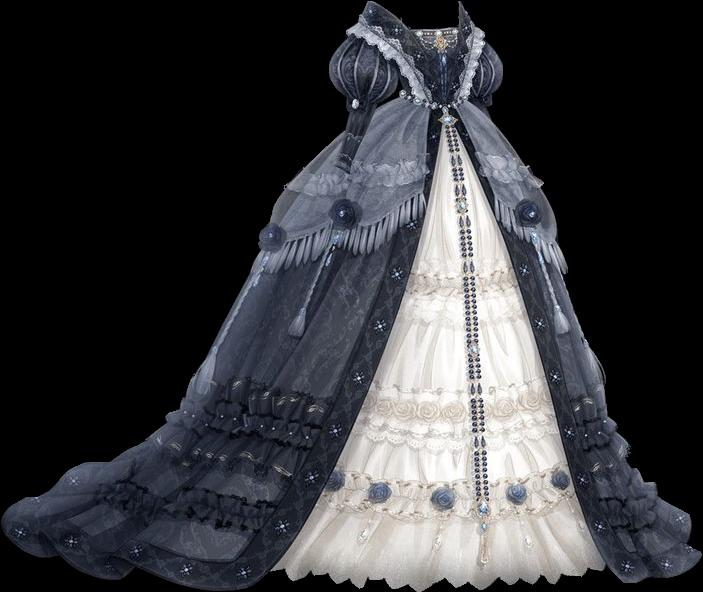Bodice: (353, 1, 485, 110)
Hemline: (263, 110, 448, 572), (450, 109, 612, 571), (1, 520, 702, 591), (256, 106, 434, 246), (456, 109, 558, 243)
Neckline: (368, 0, 465, 36), (410, 30, 445, 108), (444, 23, 466, 105)
Skirt: (2, 90, 701, 591)
Sleeve: (329, 34, 401, 173)
Sleeveline: (353, 31, 401, 68), (346, 97, 375, 113)
Waistline: (402, 89, 472, 115)
